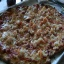pizza: (1, 4, 62, 64)
